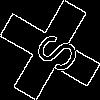S: (25, 25, 82, 77)
